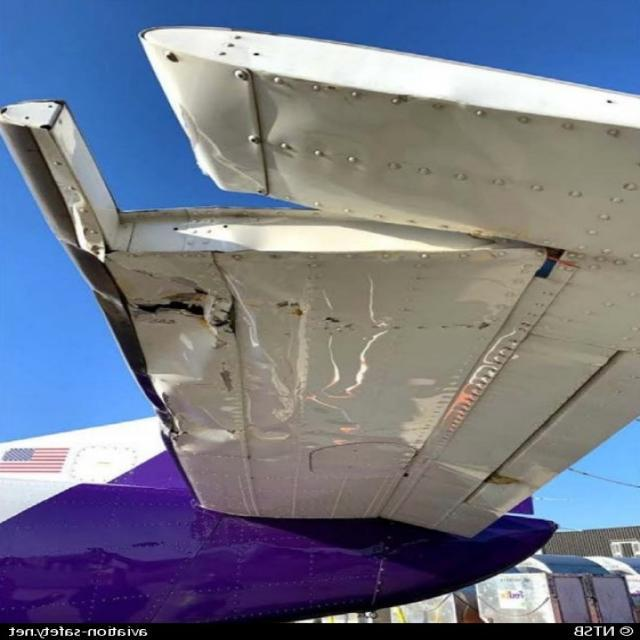dent: (193, 417, 235, 450)
